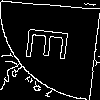E: (25, 25, 79, 64)
